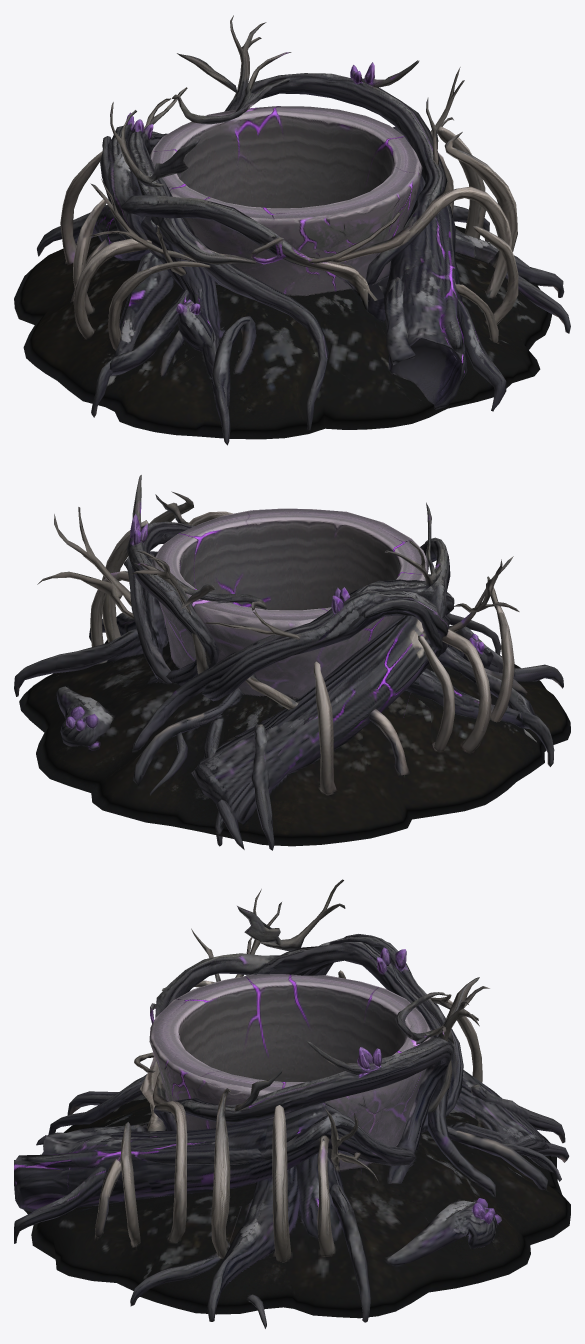
Rendered from mana-well-black.glb.
3 views of the same model, one above another, from view 1: azimuth 30°, elevation 25°; view 2: azimuth 150°, elevation 25°; view 3: azimuth 270°, elevation 25° (orthographic). The views are drawn at different scales.
Size of the model in its own units: 1 by 0.5156 by 1.
1 material, 1 textured.
